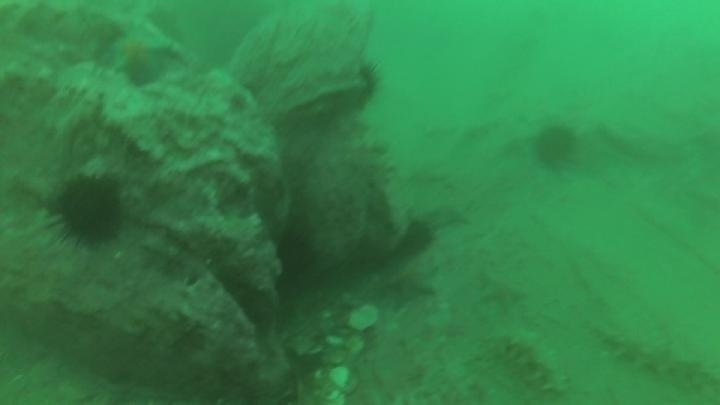echinus: (49, 172, 127, 248), (273, 229, 318, 283), (531, 123, 579, 172), (347, 59, 385, 116), (399, 218, 438, 257)
holothurian: (593, 317, 715, 391), (492, 327, 571, 398)
starfish: (107, 23, 176, 88), (383, 258, 441, 308), (475, 269, 528, 316), (417, 199, 473, 231)
